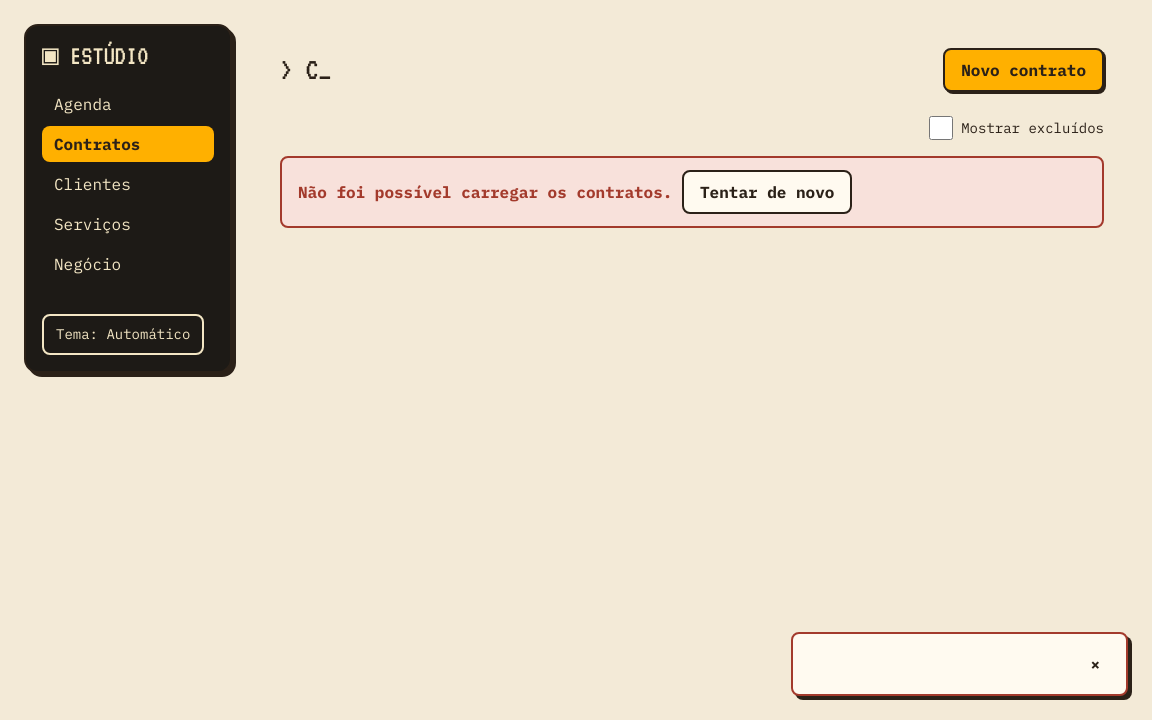
the nav links to the services screen
The width and height of the screenshot is (1152, 720).
Click the link "Serviços" at (92, 224), box [54, 214, 131, 234]
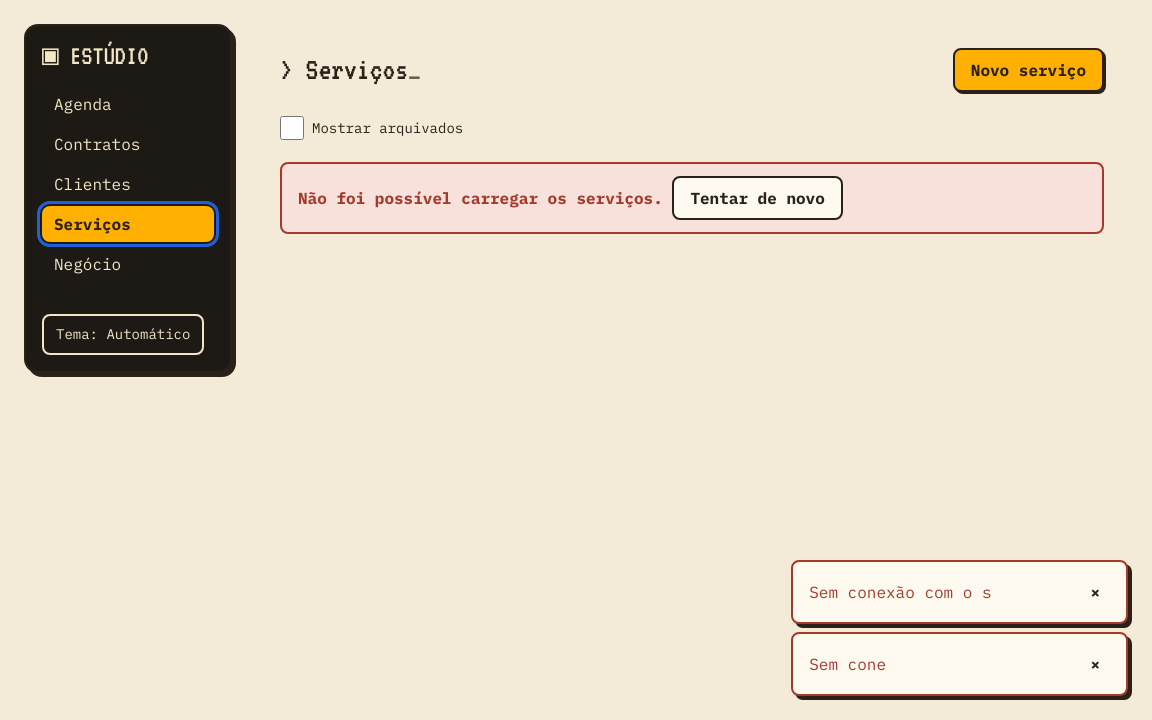
Now the heading "Serviços" is shown, box [306, 53, 408, 85]
